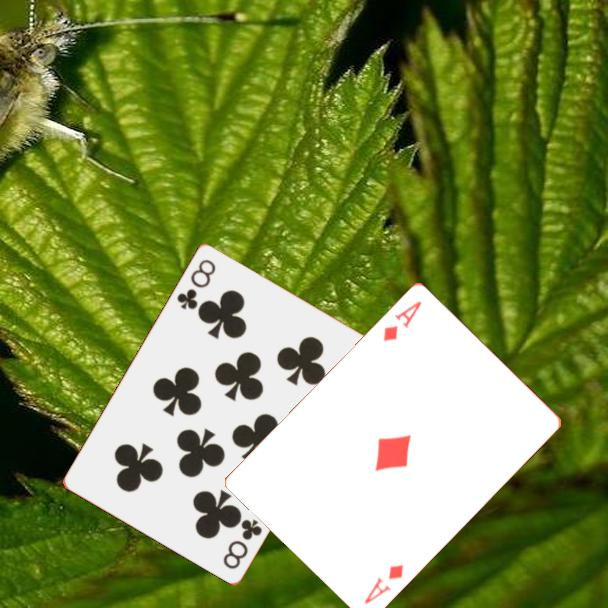c08: (173, 255, 219, 312), (219, 515, 265, 572)
d01: (379, 297, 425, 344), (361, 560, 406, 607)
